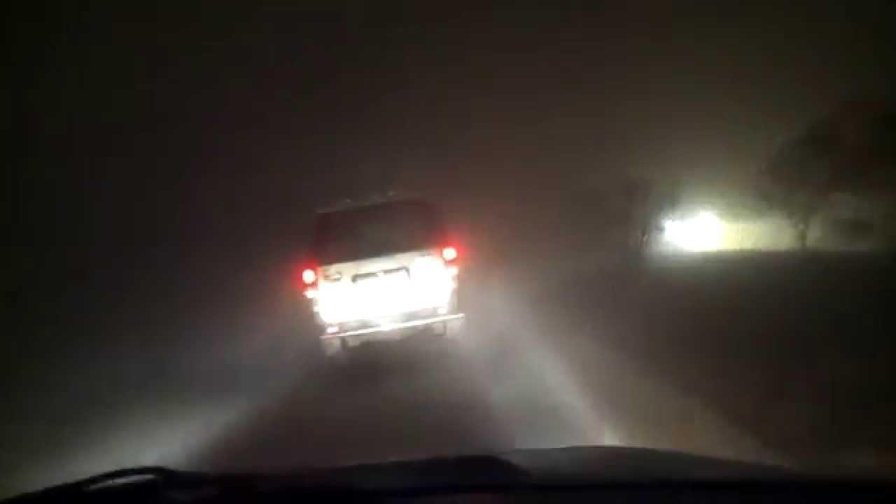car: (294, 188, 471, 359)
